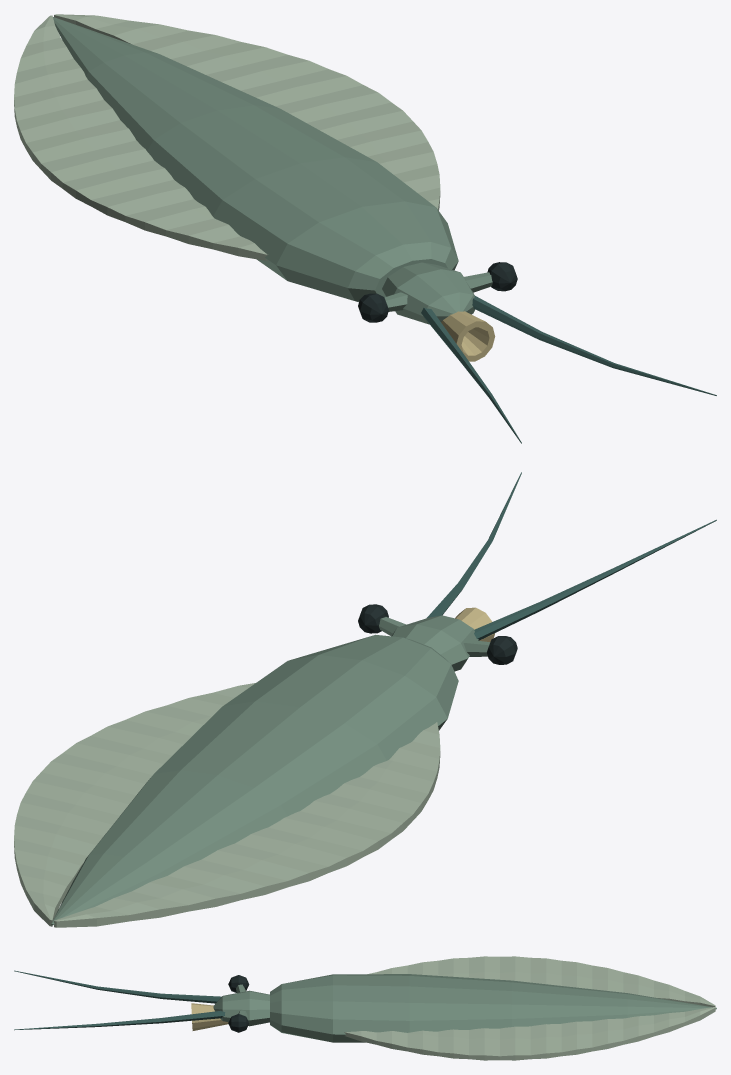
File: nectocaris.glb
3 views of the same model, one above another, from view 1: azimuth 30°, elevation 25°; view 2: azimuth 150°, elevation 25°; view 3: azimuth 270°, elevation 25° (orthographic). The views are drawn at different scales.
Parts seen in each view (by area): view 1: nectocaris-labeled-solids; view 2: nectocaris-labeled-solids; view 3: nectocaris-labeled-solids.
Boxes of the visible parts, <box> form: nectocaris-labeled-solids: <box>14,14,716,443</box>; nectocaris-labeled-solids: <box>14,472,716,927</box>; nectocaris-labeled-solids: <box>14,956,716,1060</box>.
Bounding box in the file's own units: 0.0184 × 0.004 × 0.0549.
